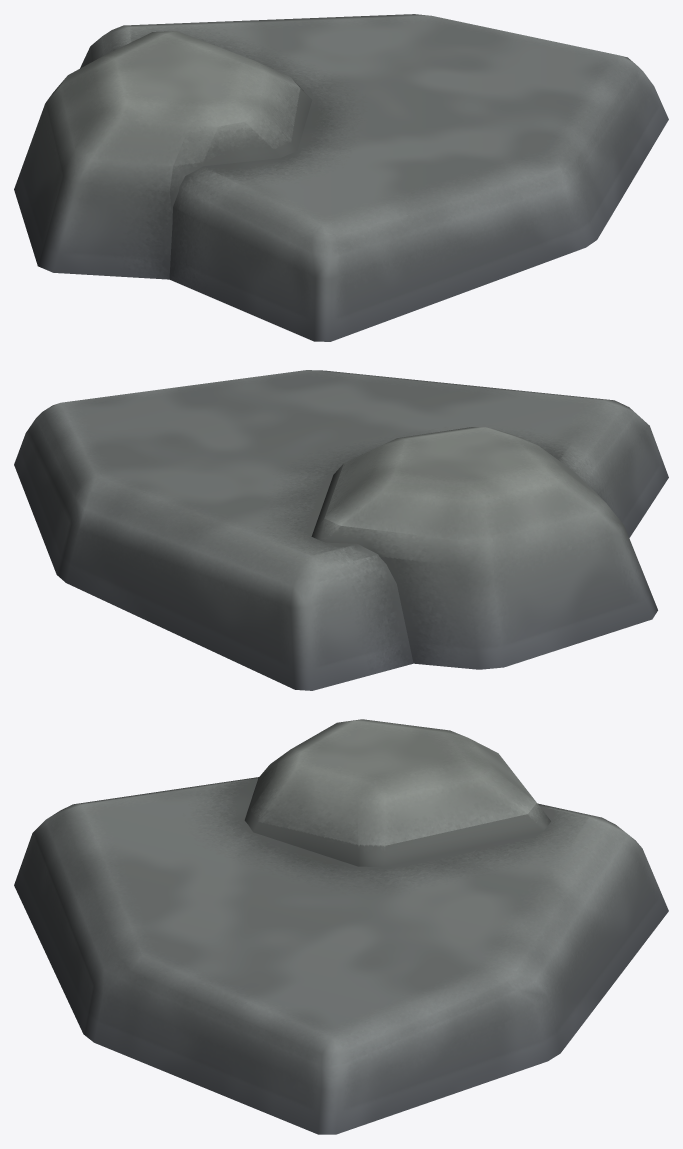
Rendered from slab_3.glb.
The picture shows the model from 3 angles, top to bottom: view 1: azimuth 30°, elevation 25°; view 2: azimuth 150°, elevation 25°; view 3: azimuth 270°, elevation 25°; orthographic projection. The views are drawn at different scales.
Visible parts, largest first — view 1: slab_3; view 2: slab_3; view 3: slab_3.
Boxes of the visible parts, <box> form: slab_3: <box>14,14,668,341</box>; slab_3: <box>14,370,668,690</box>; slab_3: <box>14,719,668,1134</box>.
Bounding box in the file's own units: 1.4 × 0.3 × 1.2.
1 material, 1 textured.
